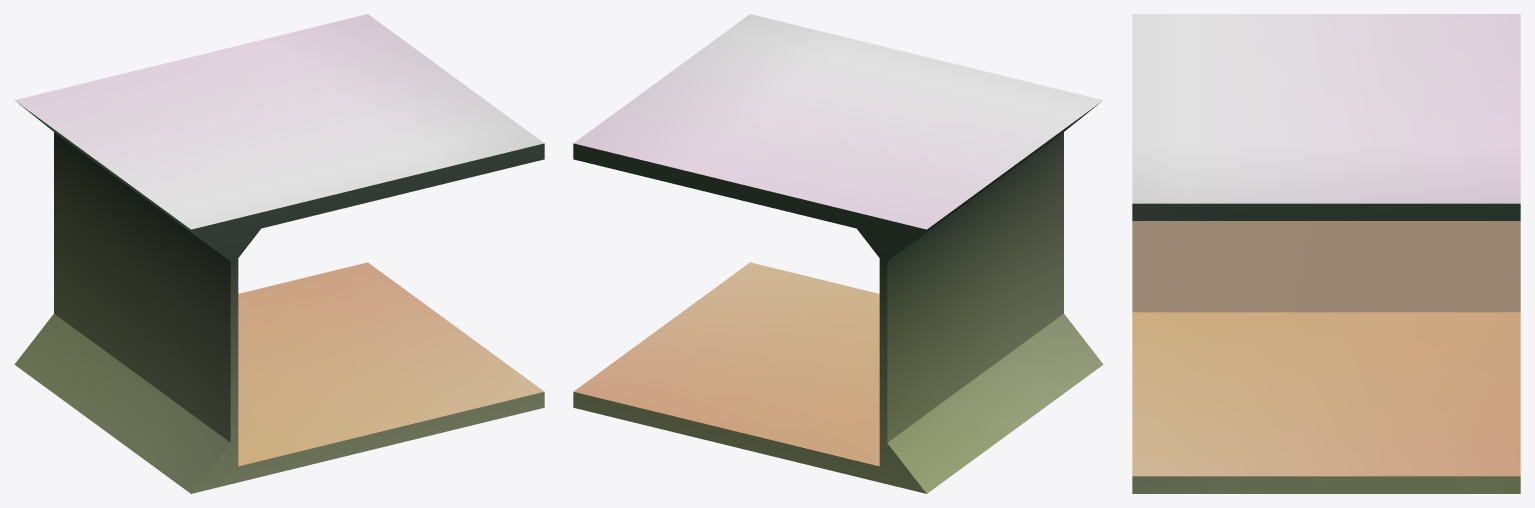
File: R_Wall.fbx
3 views of the same model, side by side, from view 1: azimuth 30°, elevation 25°; view 2: azimuth 150°, elevation 25°; view 3: azimuth 270°, elevation 25° (orthographic). The views are drawn at different scales.
Visible parts, largest first — view 1: R_Wall; view 2: R_Wall; view 3: R_Wall.
Boxes of the visible parts, left/top/right/bottom form: R_Wall: left=14, top=14, right=544, bottom=493; R_Wall: left=573, top=14, right=1103, bottom=493; R_Wall: left=1132, top=14, right=1520, bottom=493.
Bounding box in the file's own units: 4.62 × 4 × 3.3.
